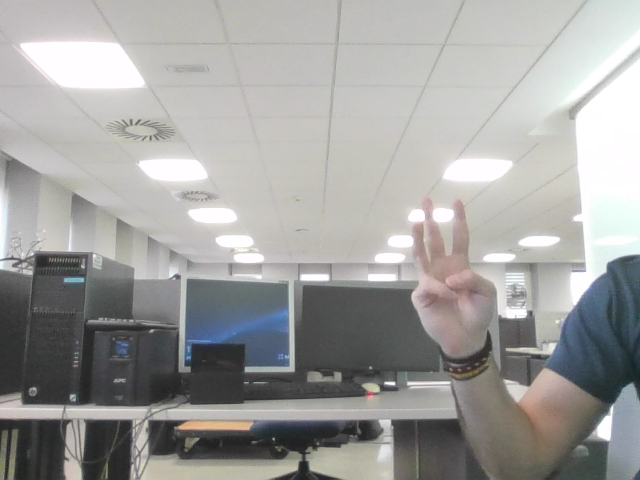3Dedos: (417, 209, 485, 313)
